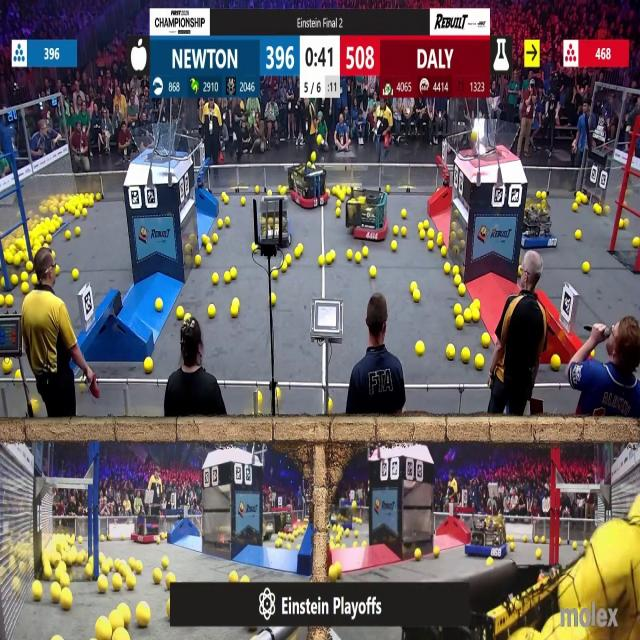ball_airborne: (311, 151, 317, 162), (316, 136, 322, 144)
ball_ground: (94, 618, 110, 640), (137, 606, 150, 629), (62, 591, 72, 611), (32, 584, 42, 602), (121, 610, 130, 628), (552, 354, 562, 370), (50, 586, 59, 603), (328, 565, 338, 580), (144, 357, 153, 372), (99, 579, 108, 594), (113, 577, 122, 592), (461, 348, 469, 363), (153, 568, 161, 583), (417, 342, 425, 356), (448, 345, 456, 359), (176, 306, 184, 320), (474, 355, 482, 369), (128, 574, 136, 588), (87, 564, 95, 578), (134, 560, 142, 574), (3, 359, 11, 373), (31, 399, 38, 415), (61, 574, 70, 586), (208, 306, 216, 319), (482, 335, 490, 348), (232, 305, 240, 318), (43, 566, 51, 579), (456, 316, 464, 328), (368, 268, 376, 280), (4, 294, 12, 306), (231, 570, 239, 582), (155, 299, 162, 312), (118, 631, 128, 640), (454, 305, 462, 316), (168, 572, 176, 583), (324, 252, 332, 263), (163, 557, 170, 569), (415, 550, 422, 562), (347, 249, 354, 261), (212, 274, 219, 286), (414, 290, 421, 302), (294, 246, 301, 258), (445, 265, 452, 276), (471, 311, 478, 322), (223, 273, 230, 284), (452, 276, 459, 287), (23, 283, 30, 294), (11, 275, 18, 286), (27, 263, 34, 274), (464, 310, 471, 321), (102, 563, 109, 574), (193, 255, 200, 265), (595, 205, 602, 215), (427, 230, 434, 240), (453, 266, 460, 276), (114, 560, 121, 570), (575, 192, 582, 202), (271, 293, 277, 304), (391, 241, 397, 252), (433, 545, 439, 556), (232, 269, 238, 280), (31, 274, 37, 285), (439, 236, 445, 247), (242, 574, 250, 582), (22, 273, 29, 282), (584, 264, 590, 274), (72, 270, 78, 280), (633, 238, 639, 248), (574, 231, 580, 241), (459, 285, 465, 295), (355, 252, 361, 262), (442, 247, 448, 257), (362, 247, 368, 257), (412, 282, 418, 292), (319, 254, 324, 266), (286, 254, 292, 264), (100, 554, 106, 564), (400, 209, 406, 218), (75, 226, 81, 235), (212, 235, 218, 244), (14, 369, 20, 378), (81, 208, 87, 217), (74, 209, 80, 218), (421, 231, 426, 241), (428, 241, 433, 251), (207, 244, 212, 254), (56, 266, 61, 276), (0, 278, 5, 288), (400, 226, 405, 236), (203, 235, 208, 245), (327, 399, 332, 409), (0, 293, 4, 305), (472, 299, 478, 307), (572, 204, 578, 212), (276, 539, 282, 547), (254, 185, 260, 193), (571, 540, 577, 548), (583, 197, 589, 205), (273, 271, 278, 280), (66, 232, 71, 241), (393, 225, 398, 234), (620, 219, 625, 228), (46, 235, 51, 244), (222, 193, 227, 202), (511, 542, 517, 549), (286, 542, 292, 549), (540, 191, 546, 198), (536, 550, 540, 560), (488, 558, 493, 566), (241, 198, 246, 206), (224, 216, 228, 226), (337, 209, 342, 217), (97, 192, 102, 200), (218, 218, 222, 228), (386, 185, 391, 193), (90, 199, 95, 207), (61, 208, 66, 216), (163, 532, 168, 540), (252, 243, 256, 252), (155, 538, 161, 544), (282, 266, 287, 273), (362, 540, 367, 547), (523, 535, 528, 542), (101, 534, 106, 541), (342, 543, 349, 548), (591, 351, 596, 358), (537, 538, 541, 546), (424, 220, 428, 228), (55, 636, 63, 640), (353, 541, 358, 547), (354, 530, 358, 537), (338, 201, 342, 208), (346, 529, 350, 536), (536, 191, 540, 198), (269, 188, 273, 195), (296, 543, 299, 550)
goal: (466, 122, 520, 160), (130, 129, 188, 160)
robot_blue: (254, 191, 295, 249), (519, 195, 555, 248), (468, 514, 509, 558)
robot_red: (349, 188, 389, 242), (289, 161, 329, 209), (133, 515, 162, 543), (278, 514, 294, 536)
